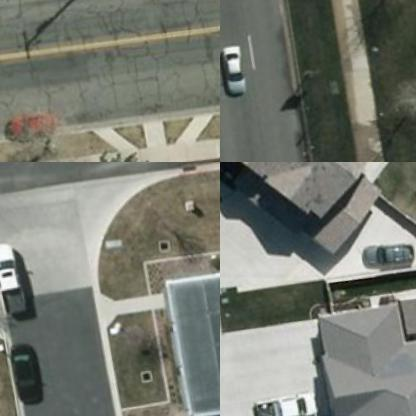car: (4, 336, 55, 408), (252, 380, 327, 415), (0, 240, 32, 318), (0, 109, 55, 153), (360, 234, 415, 274), (220, 42, 256, 98), (0, 0, 38, 11)
